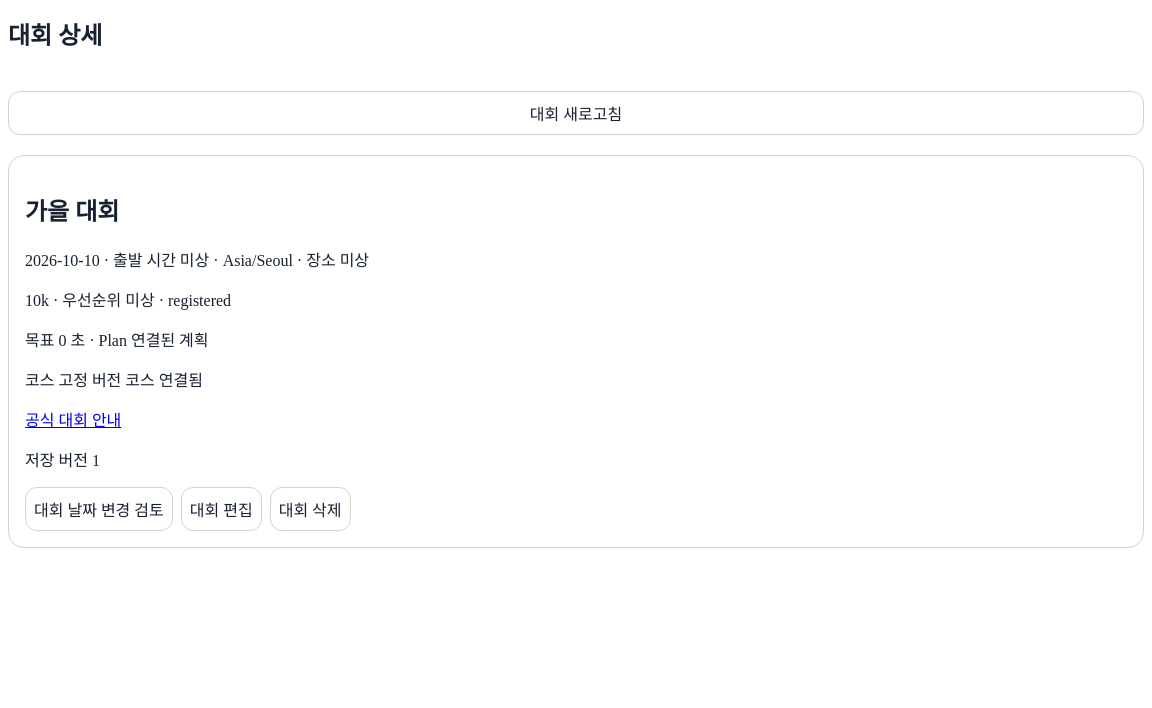
it: routes all date editing to explicit review and keeps metadata dates immutable
The width and height of the screenshot is (1152, 708).
Step 1. Click the button "대회 편집" → (221, 509), box [181,487,262,531]
(page scrolled)
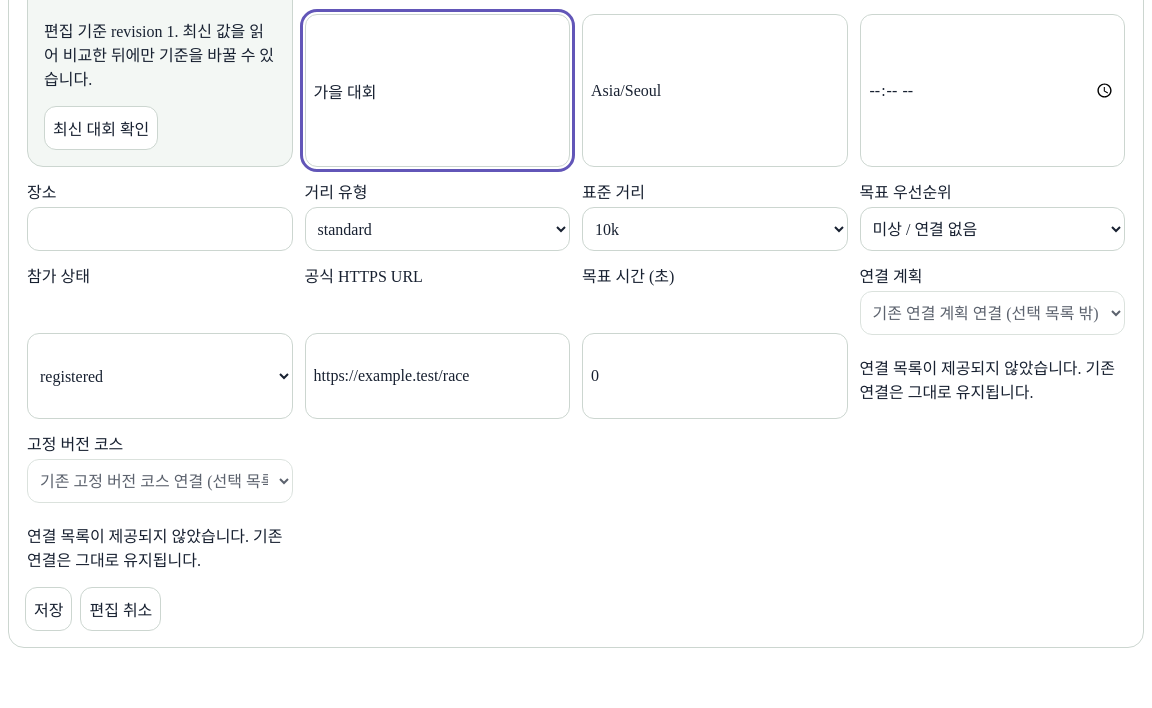
expect the dropdown labelled "연결 계획" is disabled: met, box [860,291,1125,335]
Step 2. Click the button "편집 취소" → (121, 609), box [80,587,161,631]
(page scrolled)
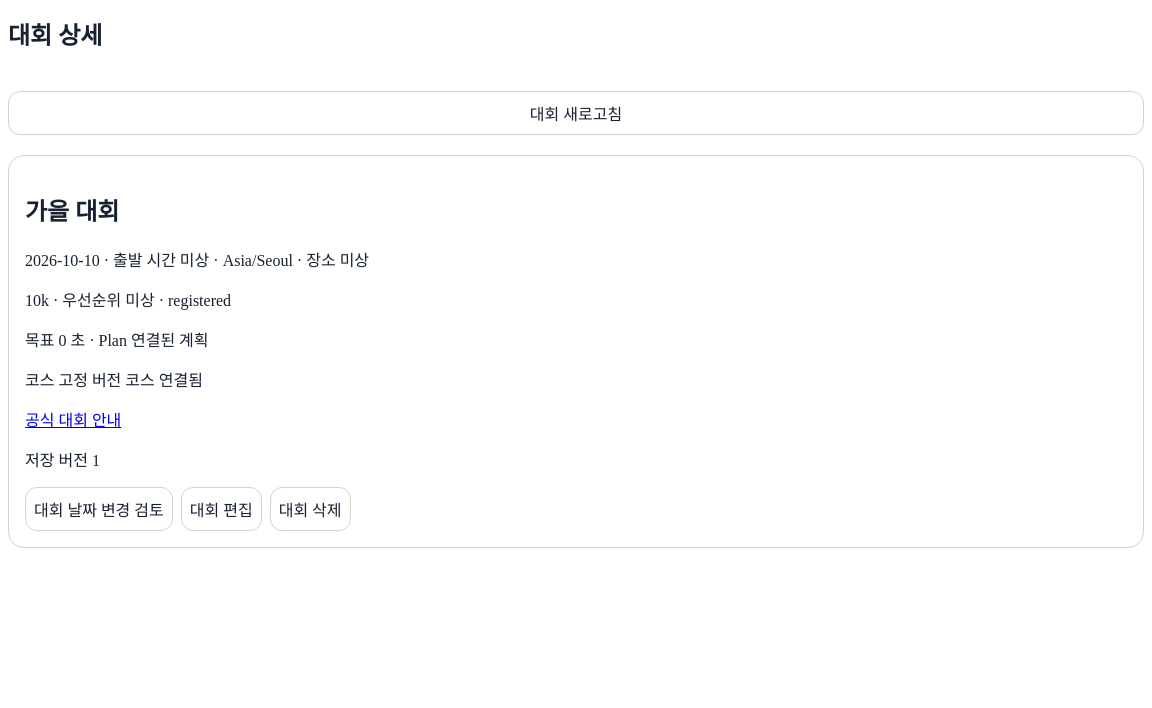
Step 3. Click the button "대회 날짜 변경 검토" → (99, 509), box [25,487,173,531]
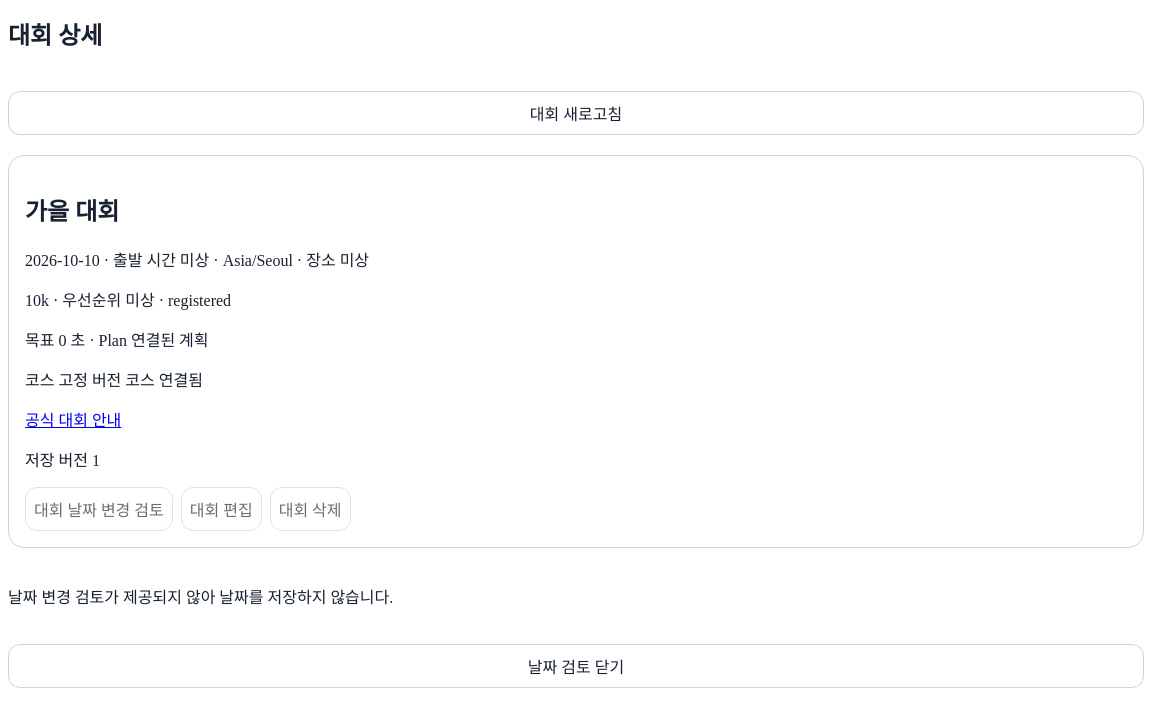
expect the text "날짜 변경 검토가 제공되지 않아 날짜를 저장하지 않습니다." is shown: met, box [8,589,393,606]
